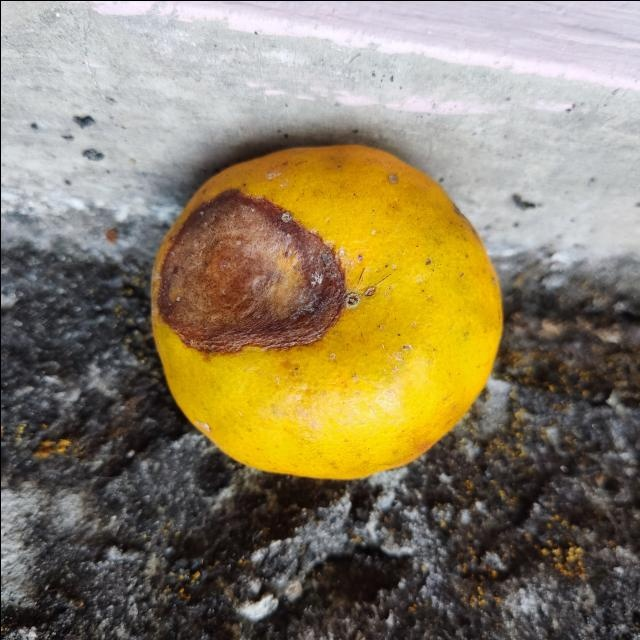agrume: (146, 139, 506, 483)
